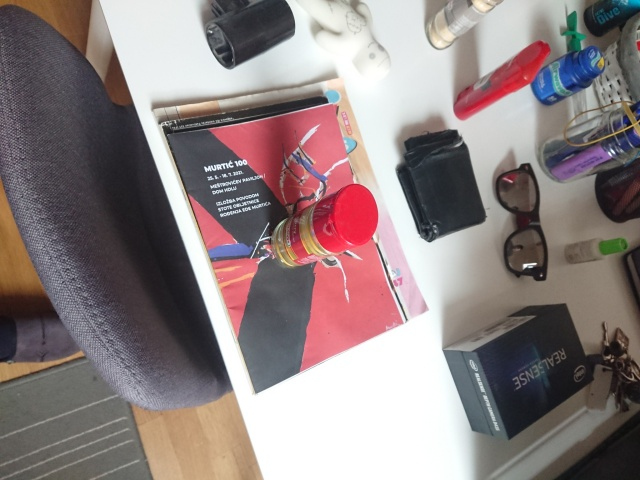Kotanyi Curry Spices Mix 70g: (268, 182, 381, 272)
